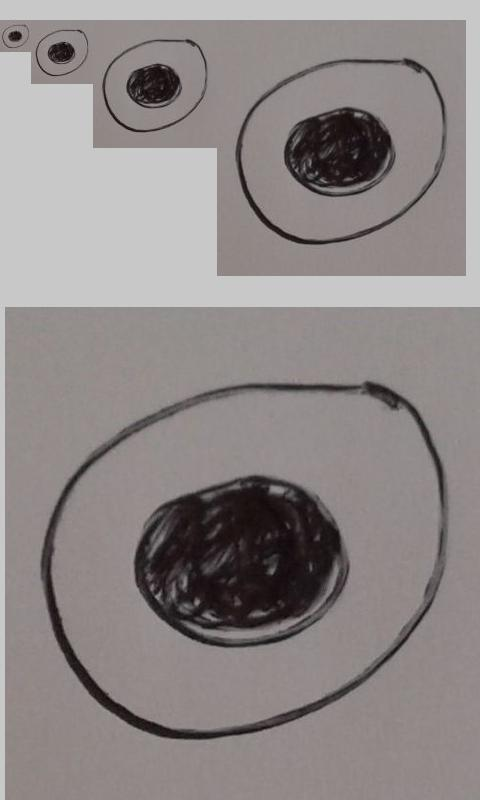radio_button: (38, 380, 451, 742), (234, 57, 449, 247), (102, 38, 208, 133), (35, 29, 90, 77), (1, 23, 30, 49)
